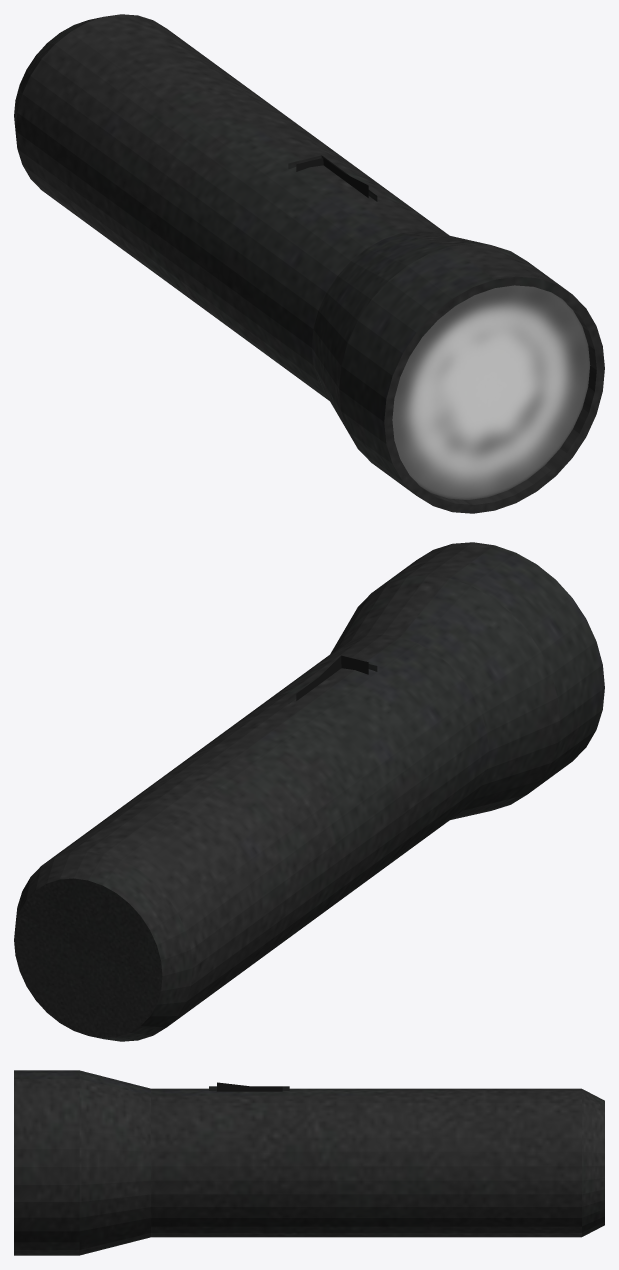
The model's file is flashlight001.fbx.
The picture shows the model from 3 angles, top to bottom: view 1: azimuth 30°, elevation 25°; view 2: azimuth 150°, elevation 25°; view 3: azimuth 270°, elevation 25°; orthographic projection. The views are drawn at different scales.
Parts seen in each view (by area): view 1: Cylinder; view 2: Cylinder; view 3: Cylinder.
Boxes of the visible parts, x1=… form: Cylinder: x1=14, y1=14, x2=604, y2=513; Cylinder: x1=14, y1=542, x2=604, y2=1041; Cylinder: x1=14, y1=1070, x2=604, y2=1255.
Bounding box in the file's own units: 166 × 166 × 530.
4 materials, 4 textured.
